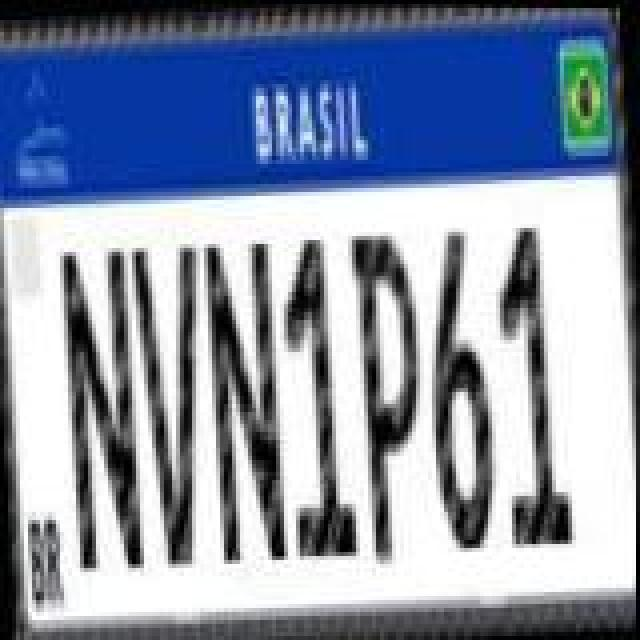1: (274, 230, 362, 562), (490, 216, 578, 548)
6: (418, 222, 506, 558)
N: (200, 234, 292, 570), (56, 244, 148, 576)
P: (344, 222, 436, 570)
V: (128, 238, 220, 574)
